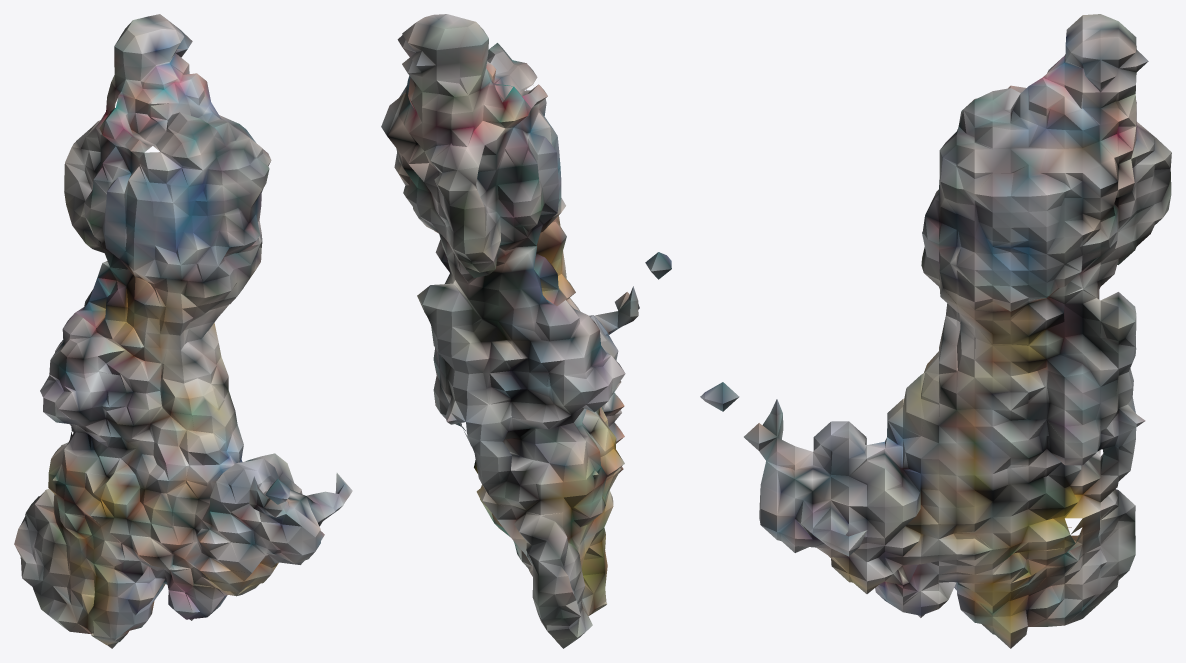
The model's file is 000002_motorcycle_vehicle_collector's item_10240_64.glb.
3 renders of one model, left to right at view 1: azimuth 30°, elevation 25°; view 2: azimuth 150°, elevation 25°; view 3: azimuth 270°, elevation 25°, orthographic. The views are drawn at different scales.
Visible parts, largest first — view 1: world; view 2: world; view 3: world.
Part boxes in pixels (x1,y1,x2,y2): world: (14,14,352,648); world: (381,14,671,648); world: (700,14,1171,648).
Size of the model in its own units: 0.4577 by 1.13 by 0.7249.
